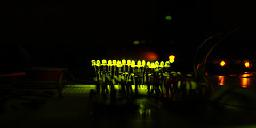LED: (91, 55, 181, 70)
